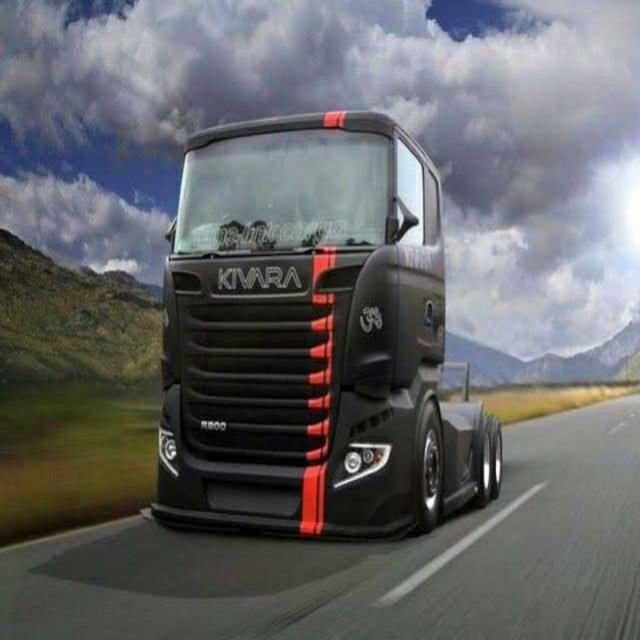Heavy Duty Truck: (138, 109, 504, 540)
